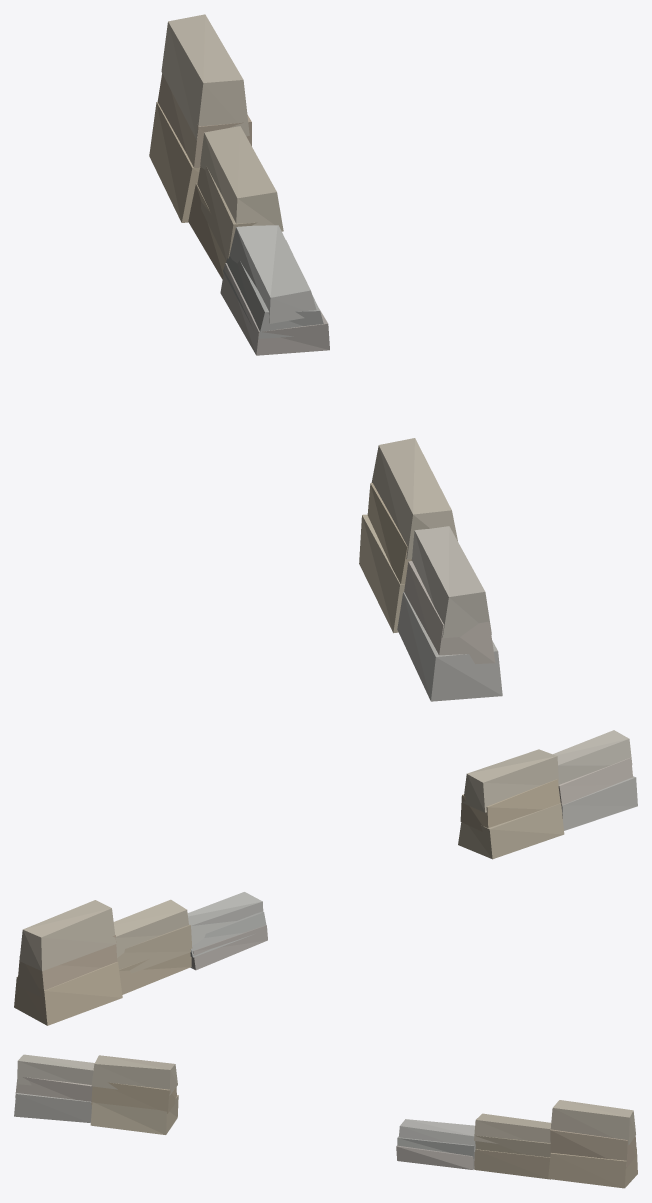
Rendered from farm_18_24_mid.glb.
3 renders of one model, top to bottom at view 1: azimuth 30°, elevation 25°; view 2: azimuth 150°, elevation 25°; view 3: azimuth 270°, elevation 25°, orthographic. The views are drawn at different scales.
Parts seen in each view (by area): view 1: geometry_0; view 2: geometry_0; view 3: geometry_0.
Boxes of the visible parts, box(x1,y1,x2,y2) form: geometry_0: box(149, 14, 502, 701); geometry_0: box(14, 730, 637, 1025); geometry_0: box(14, 1054, 637, 1188).
Bounding box in the file's own units: 4.16 × 1.54 × 11.31.
